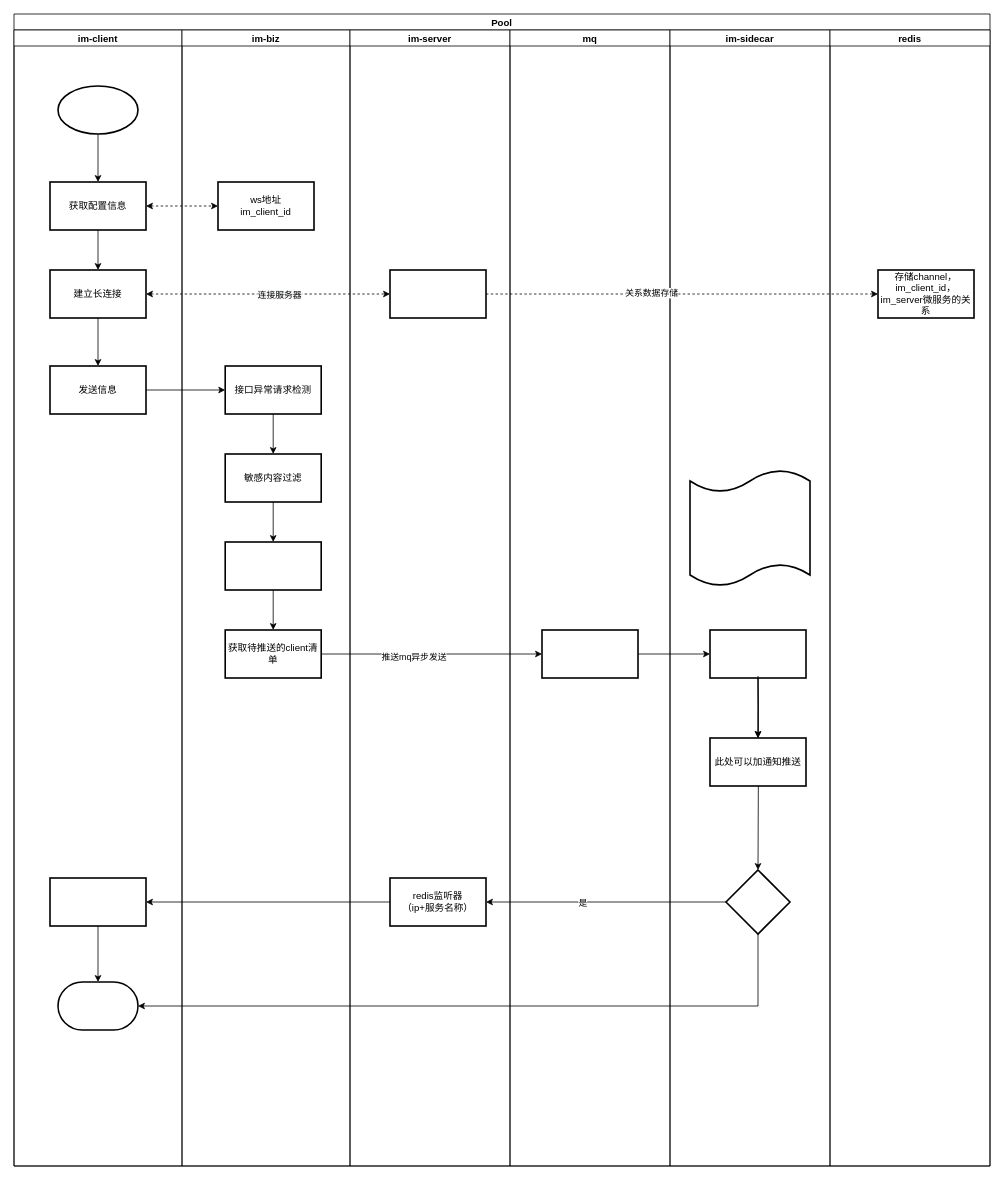
This 1004x1180 diagram has some shape labels left out. The centre of each missing label's shape, as x and y in pixels:
开始: (x=97, y=109)
接收消息: (x=97, y=901)
推送给边车: (x=589, y=653)
是否有监听: (x=757, y=901)
查找待发送消息和微服务之间的关系，将消息推送给对应服务的redis监听: (x=749, y=527)
查找消息对应 的监听器: (x=757, y=653)
消息保存: (x=273, y=565)
绑定channel和id的关系: (x=437, y=293)
结束: (x=97, y=1005)
